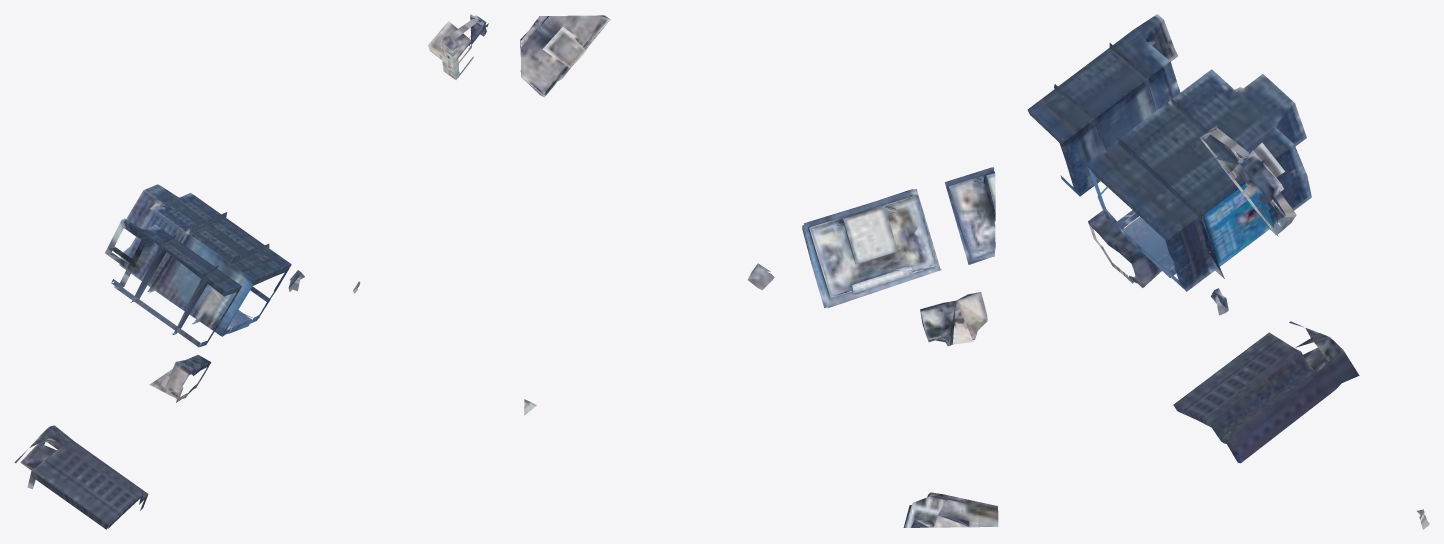
3 views of the same model, side by side, from view 1: azimuth 30°, elevation 25°; view 2: azimuth 150°, elevation 25°; view 3: azimuth 270°, elevation 25° (orthographic). The views are drawn at different scales.
Bounding box in the file's own units: 167 × 141 × 98.09.
1 material, 1 textured.
